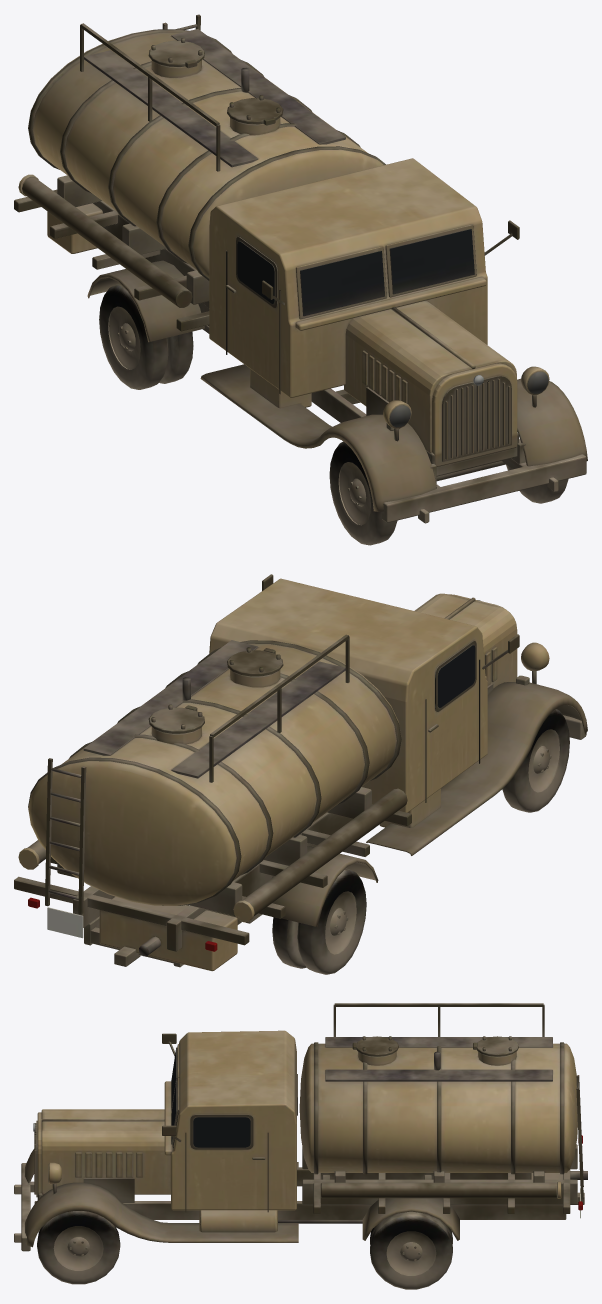
The model's file is truck_dak_tanker.glb.
The picture shows the model from 3 angles, top to bottom: view 1: azimuth 30°, elevation 25°; view 2: azimuth 150°, elevation 25°; view 3: azimuth 270°, elevation 25°; orthographic projection. The views are drawn at different scales.
Visible parts, largest first — view 1: truck_body, wheel_RL, wheel_FL; view 2: truck_body, wheel_RL, wheel_FL; view 3: truck_body, wheel_RR, wheel_FR.
Part boxes in pixels (<box>): truck_body: <box>14,14,587,523</box>; wheel_RL: <box>99,283,193,389</box>; wheel_FL: <box>329,441,397,545</box>; truck_body: <box>14,574,587,971</box>; wheel_RL: <box>272,868,366,974</box>; wheel_FL: <box>502,709,569,812</box>; truck_body: <box>14,1003,587,1251</box>; wheel_RR: <box>370,1211,452,1289</box>; wheel_FR: <box>37,1211,120,1284</box>.
Size of the model in its own units: 2.39 by 2.65 by 6.21.
Materials: 1 (1 with a texture image).
